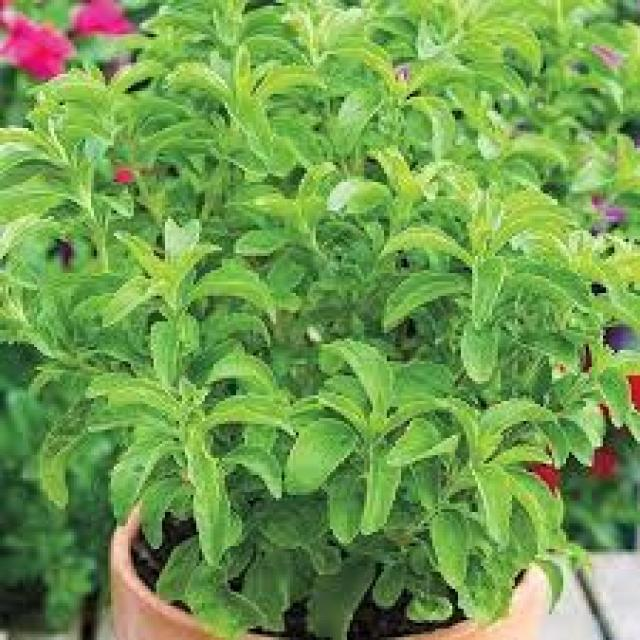healthy_leaf: (33, 32, 606, 615)
